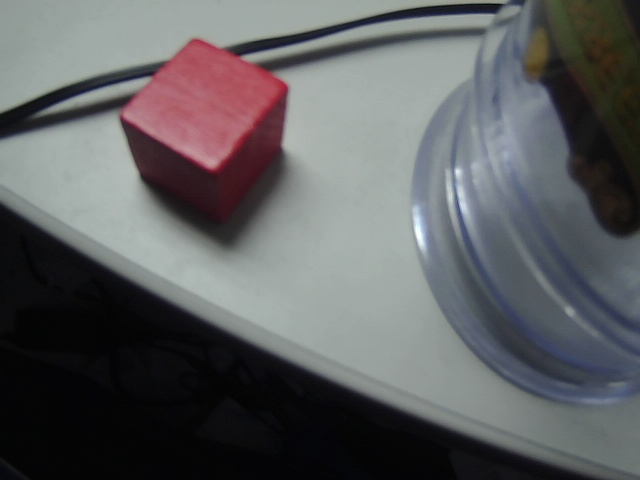redbox: (121, 29, 297, 230)
